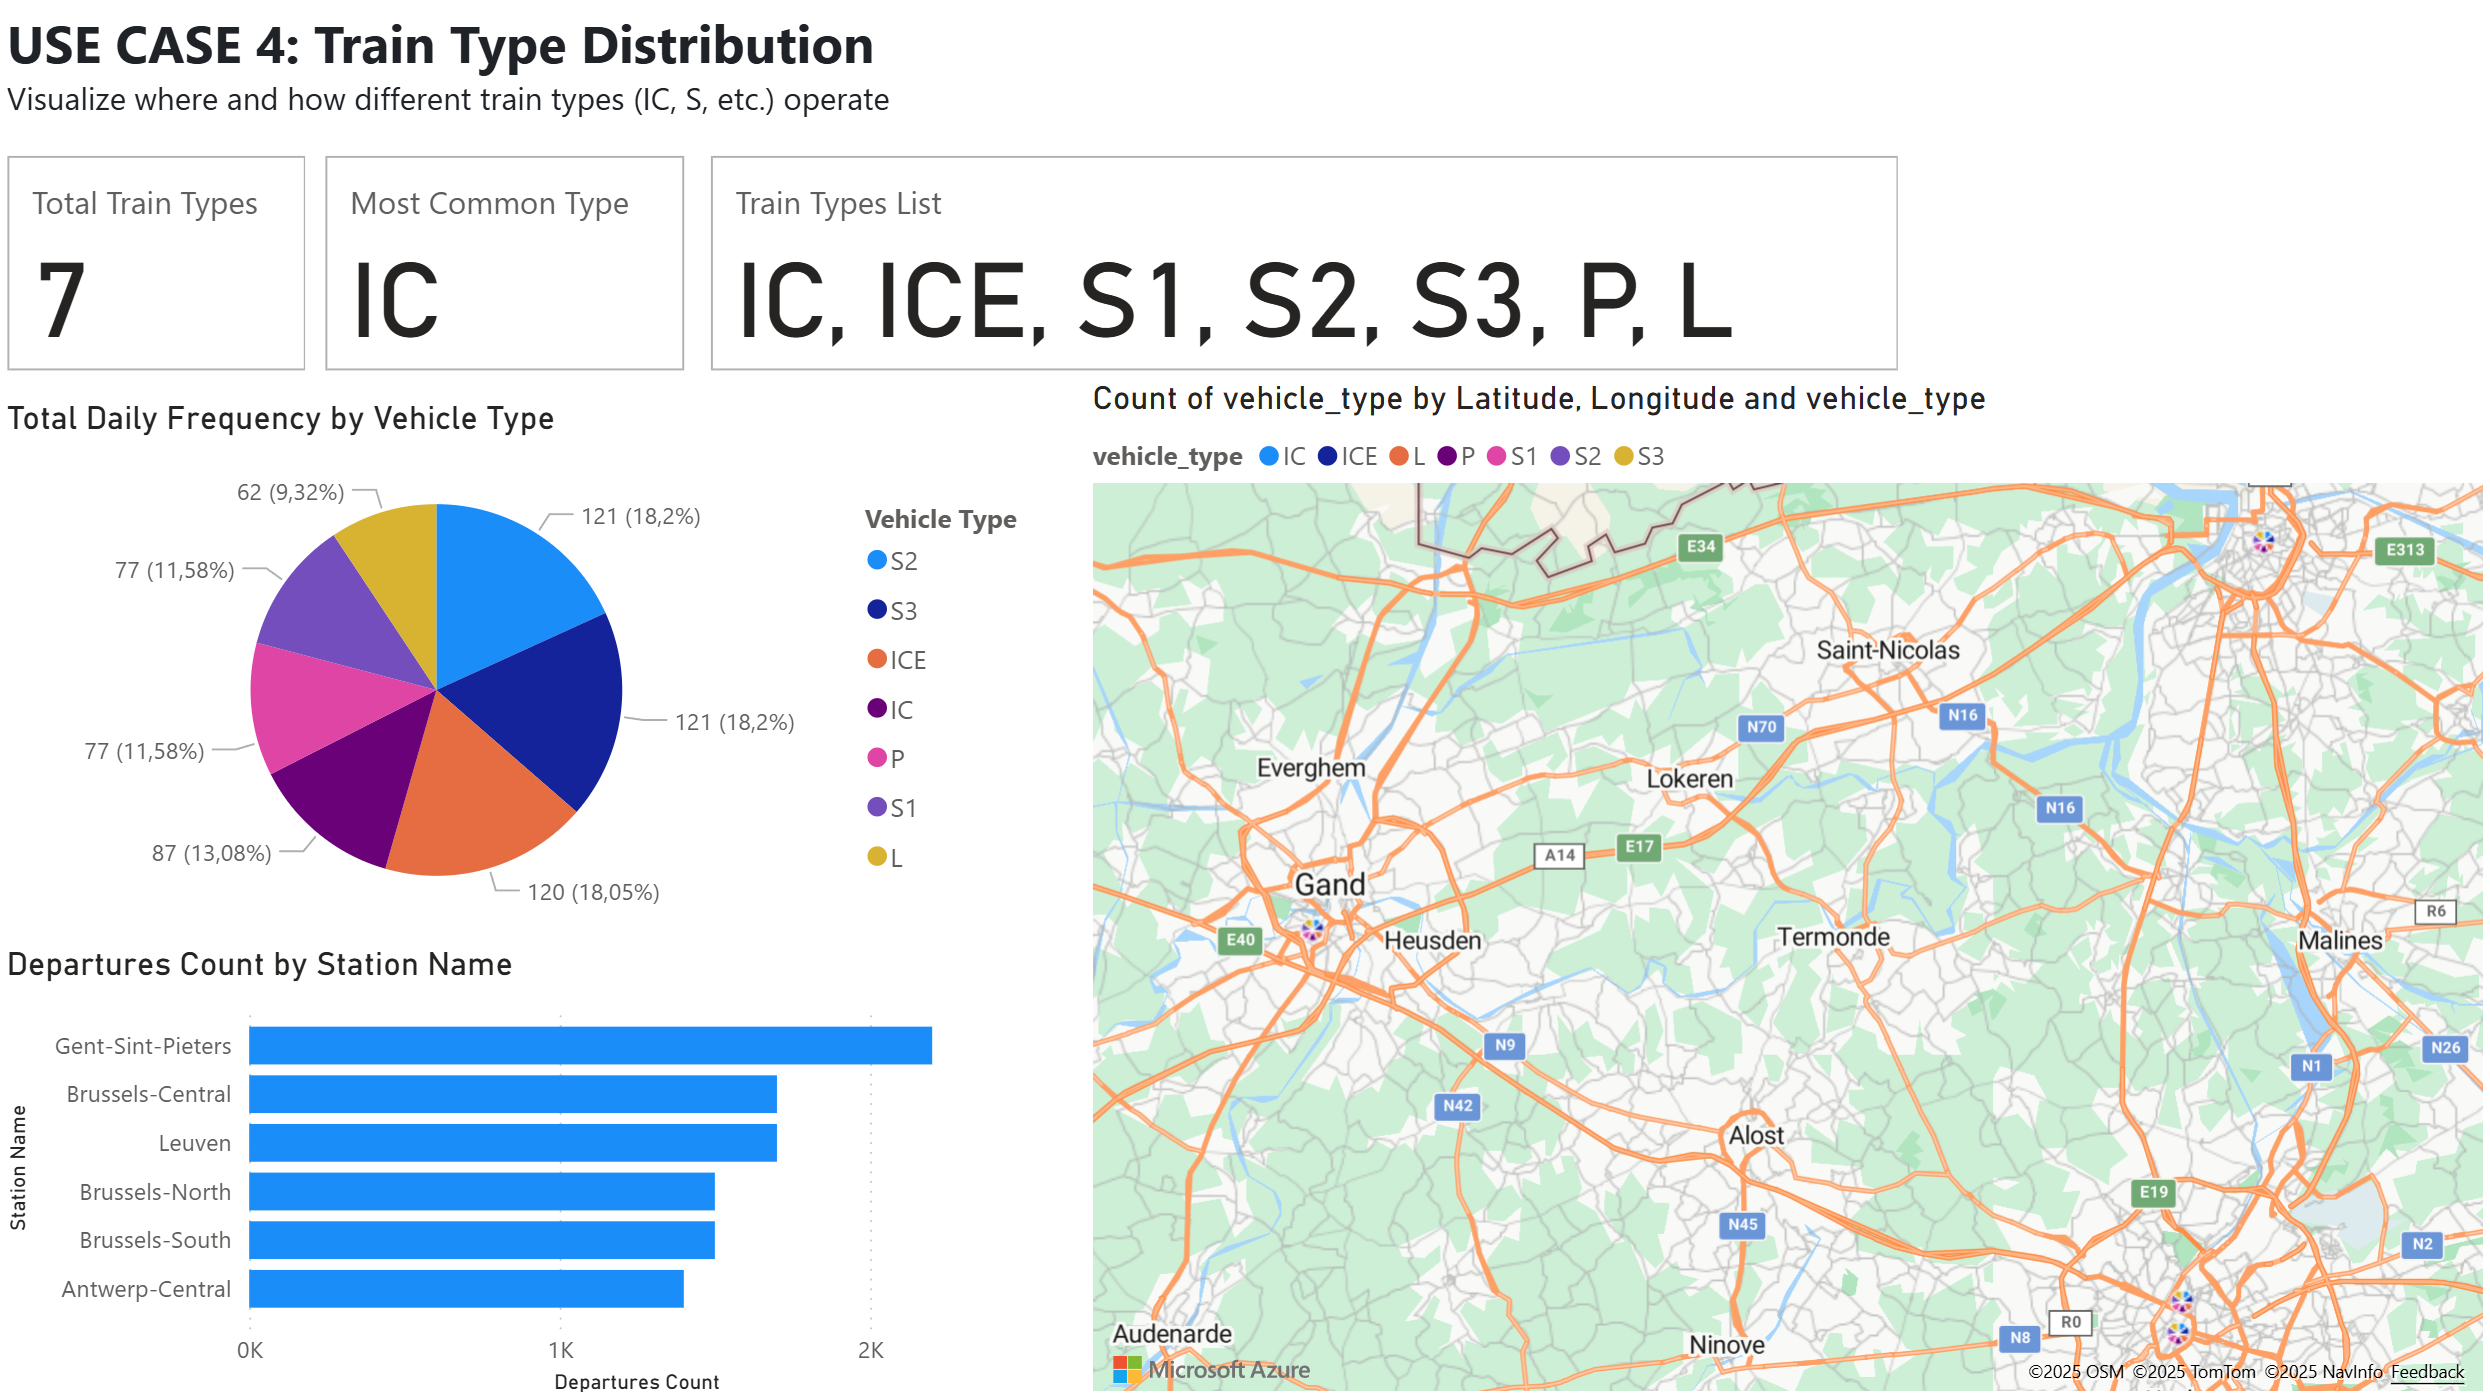

What the dashboard file says about the page in this screenshot:
{"tool":"powerbi","page":{"name":"UC4","canvas":[1280,720],"ordinal":3},"visuals":[{"type":"textbox","box":[23,0,280,280],"z":0},{"type":"textbox","box":[0,0,637,70],"z":1000},{"type":"cardVisual","fields":{"Data":["Vehicles.Total_Train_Types"]},"box":[0,76,163,120],"z":2000},{"type":"cardVisual","fields":{"Data":["Vehicles.Most_Common_Type"]},"box":[163,76,194,120],"z":3000},{"type":"cardVisual","fields":{"Data":["Vehicles.Train_Types_List"]},"box":[361,76,619,120],"z":4000},{"type":"pieChart","fields":{"Category":["Vehicles.data.vehicle_type"],"Y":["Vehicles.Total_Daily_Frequency"]},"box":[0,205,545,280],"z":5000},{"type":"barChart","fields":{"Category":["Departures.data.station_name"],"Y":["Sum(Departures.count)"]},"box":[0,485,545,235],"z":6000},{"type":"azureMap","fields":{"Y":["VehiculesStationsDelays.Latitude"],"X":["VehiculesStationsDelays.Longitude"],"Size":["CountNonNull(VehiculesStationsDelays.vehicle_type)"],"Series":["VehiculesStationsDelays.vehicle_type"]},"box":[556.7,195.6,723.3,524.4],"z":7000}]}

Visuals, with their boxes in screenshot pixels (x1, y1, x2, y2), scaled from the page's 1280x720 canvas onto the 2490x1398 screenshot:
textbox: (45,0,589,544)
textbox: (0,0,1239,136)
cardVisual - Vehicles.Total_Train_Types: (0,148,317,381)
cardVisual - Vehicles.Most_Common_Type: (317,148,694,381)
cardVisual - Vehicles.Train_Types_List: (702,148,1906,381)
pieChart - Vehicles.data.vehicle_type x Vehicles.Total_Daily_Frequency: (0,398,1060,942)
barChart - Departures.data.station_name x Sum(Departures.count): (0,942,1060,1397)
azureMap - VehiculesStationsDelays.Latitude x VehiculesStationsDelays.Longitude: (1083,380,2489,1397)
